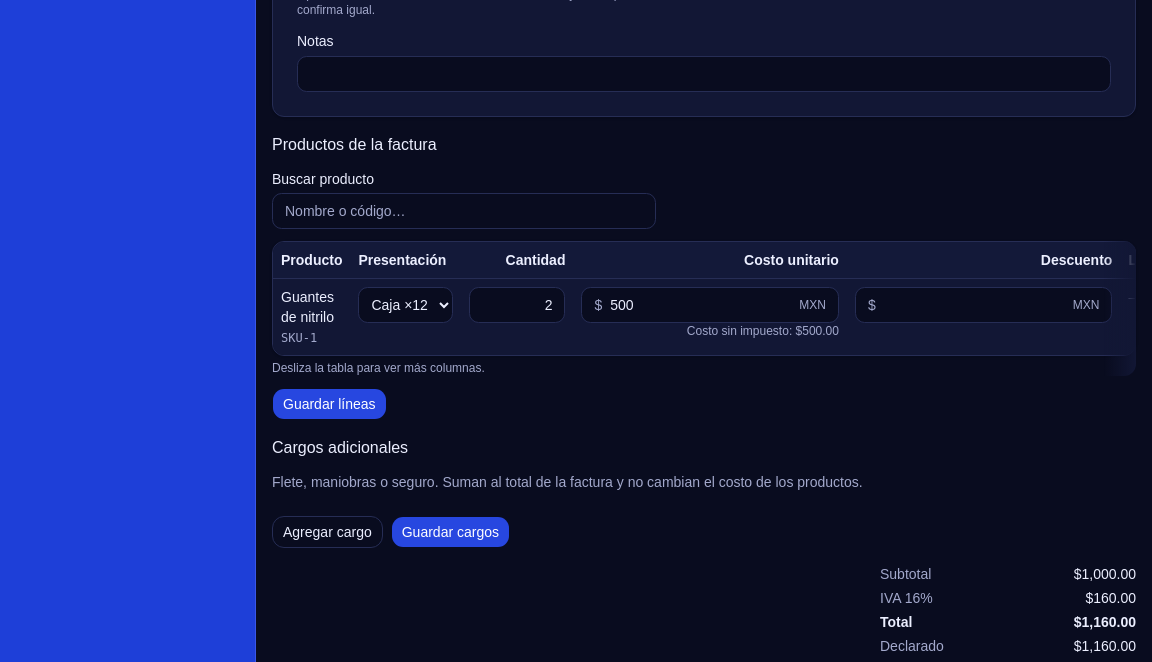
Test case: Compras — la ficha (F9-PURCH-11) › «Confirmar compra» guarda las líneas sin guardar ANTES de preguntar
(page scrolled)
Replace the text in the field named "Cantidad" with "3". click: [518, 305]
box: [470,287,566,323]
(page scrolled)
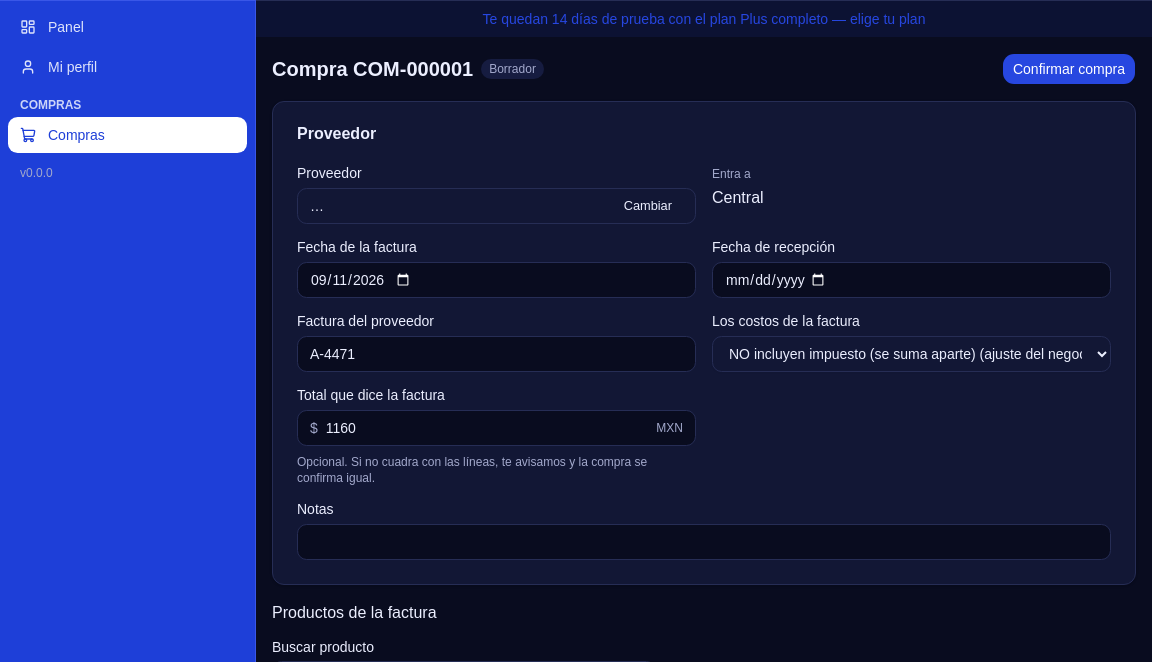
Click the button "Confirmar compra". click: [1069, 69]
box: [1002,53,1136,85]
(page scrolled)
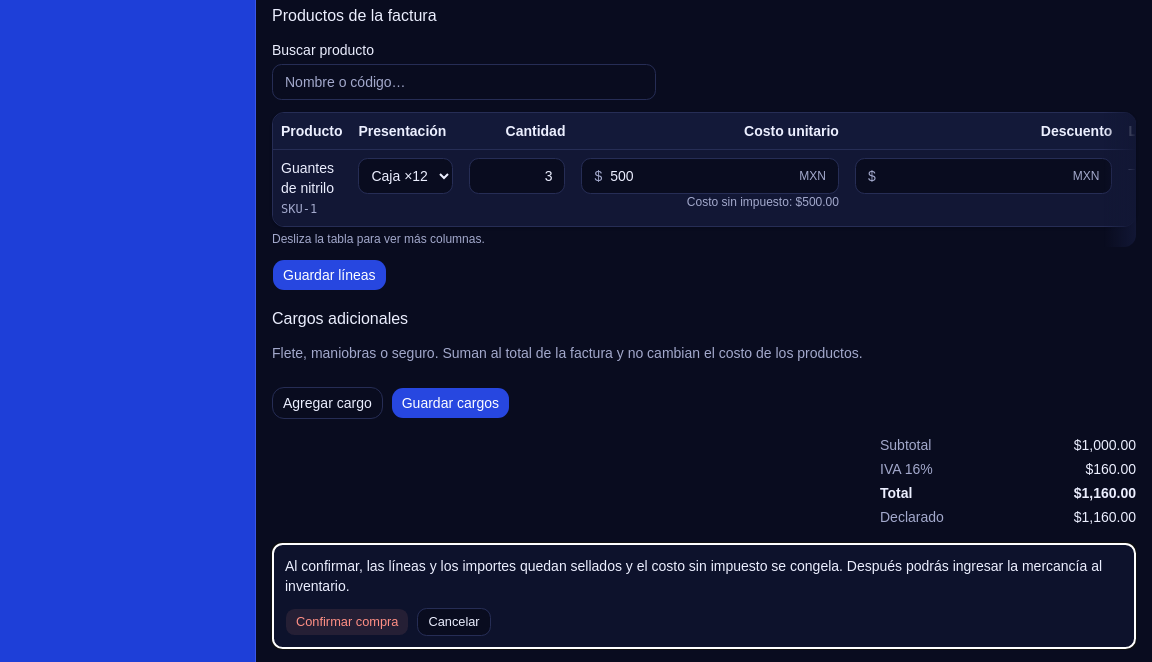
Result: the dialog with test id "confirm-purchase" is shown at [272,543,1136,649]
